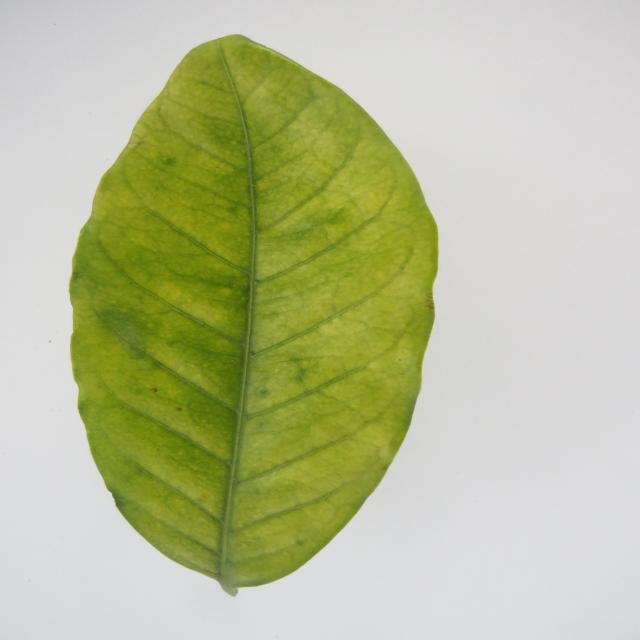DeficienciaNutricional-Nitrogeno: (72, 38, 430, 583)
